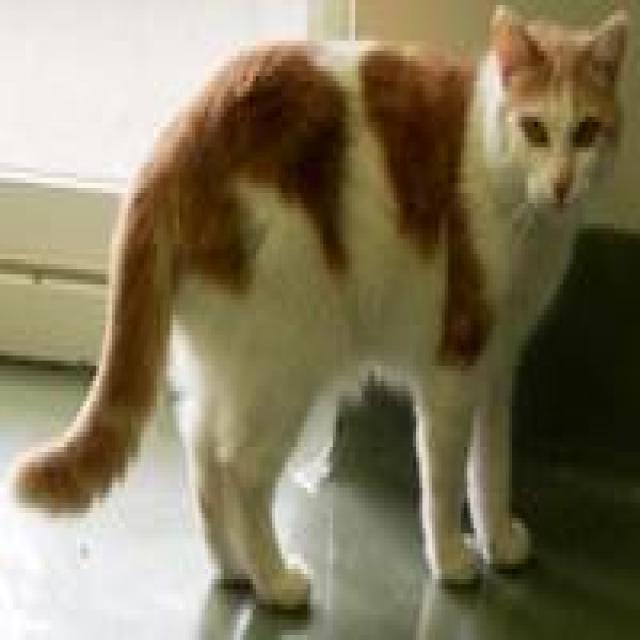Cat: (485, 0, 640, 267)
